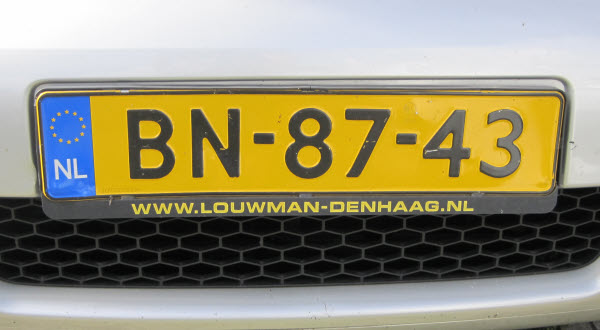license_plate: (36, 90, 565, 192)
